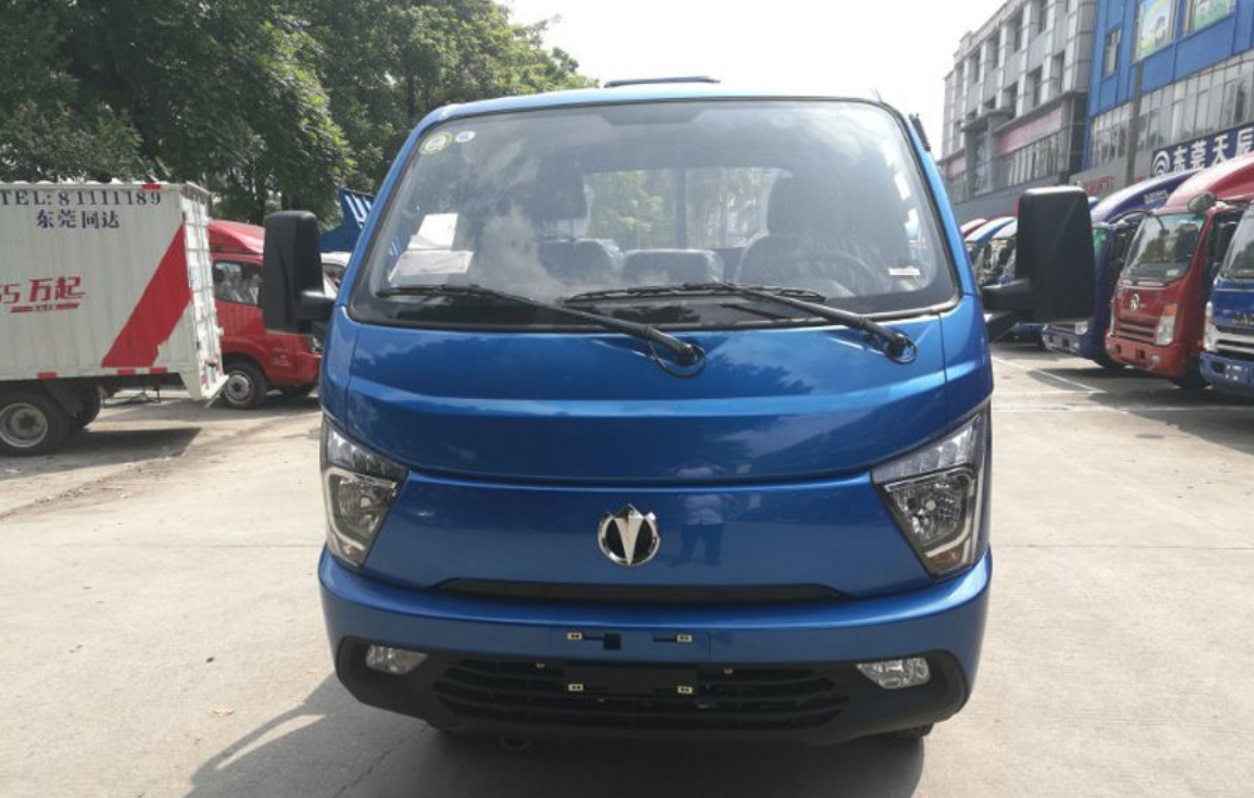truck: (255, 65, 1099, 744)
